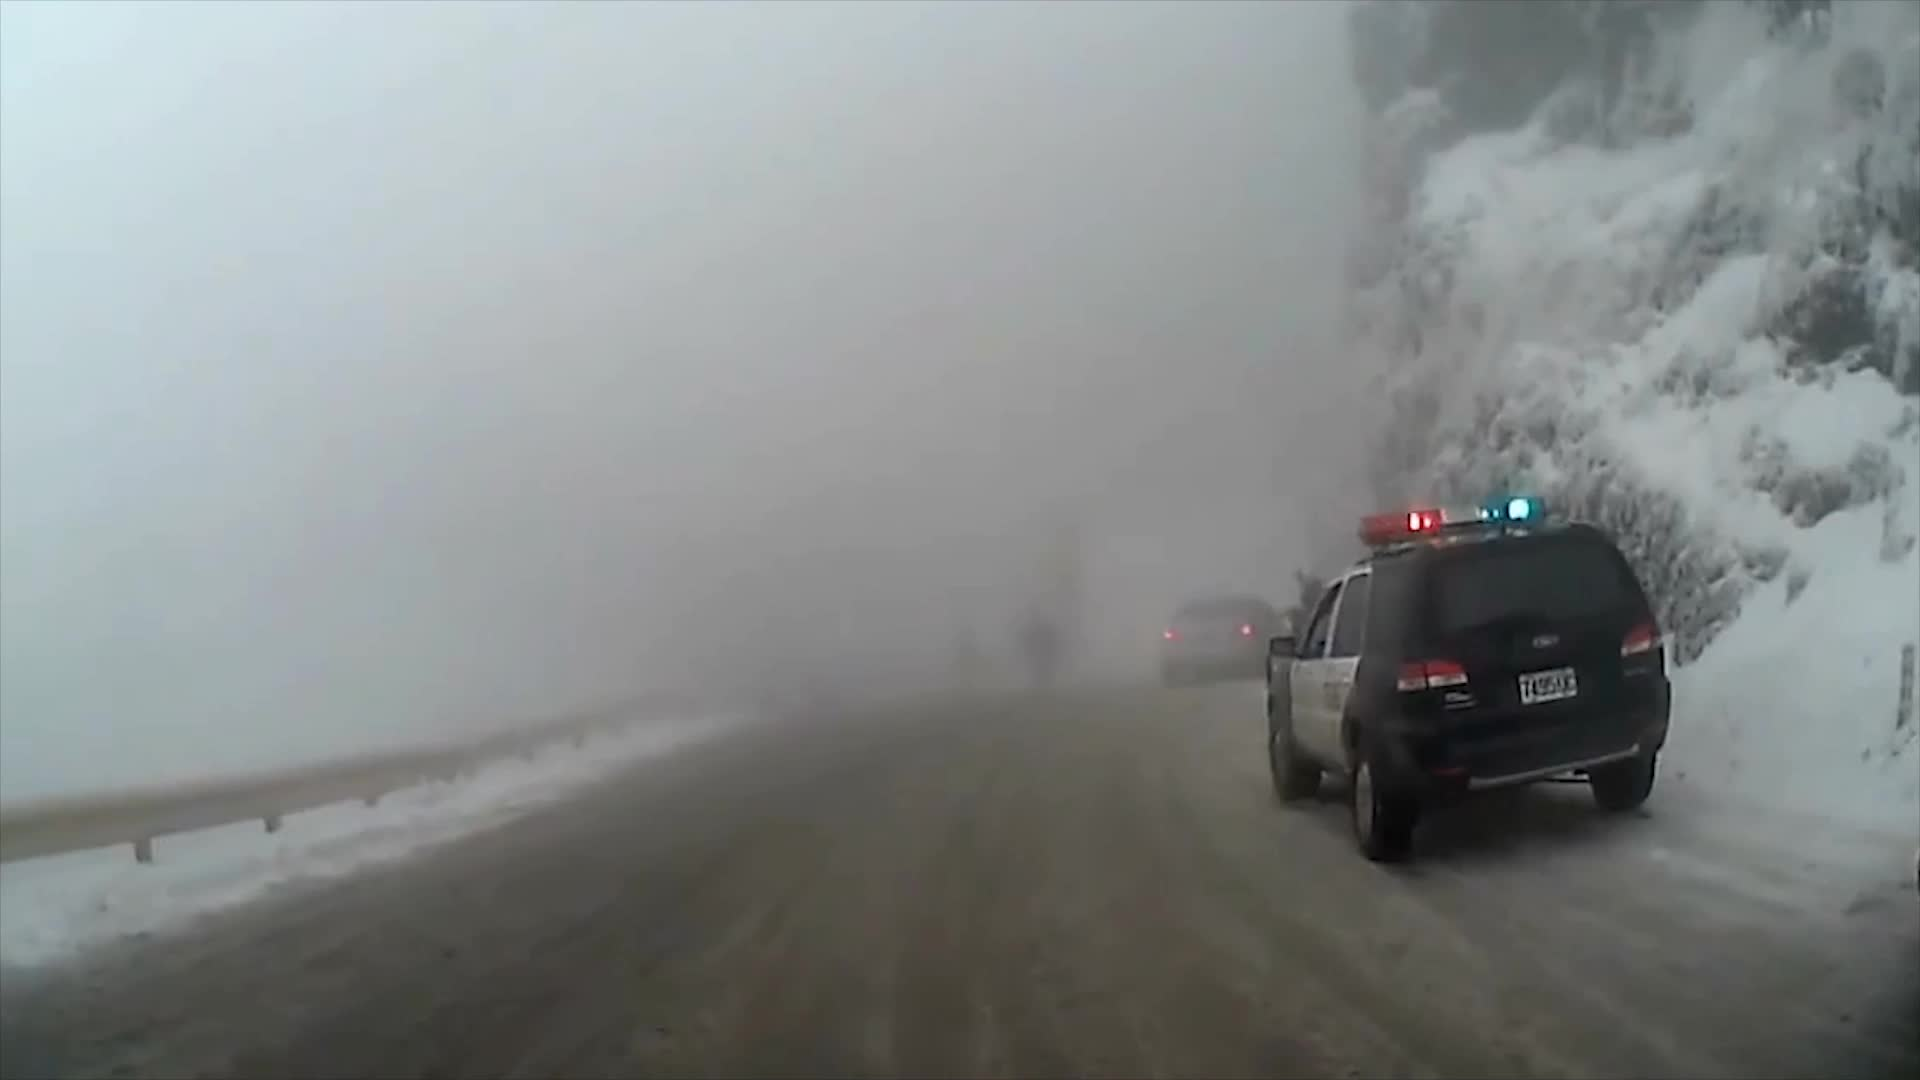vehicle: (1261, 491, 1671, 862), (1158, 596, 1286, 688)
